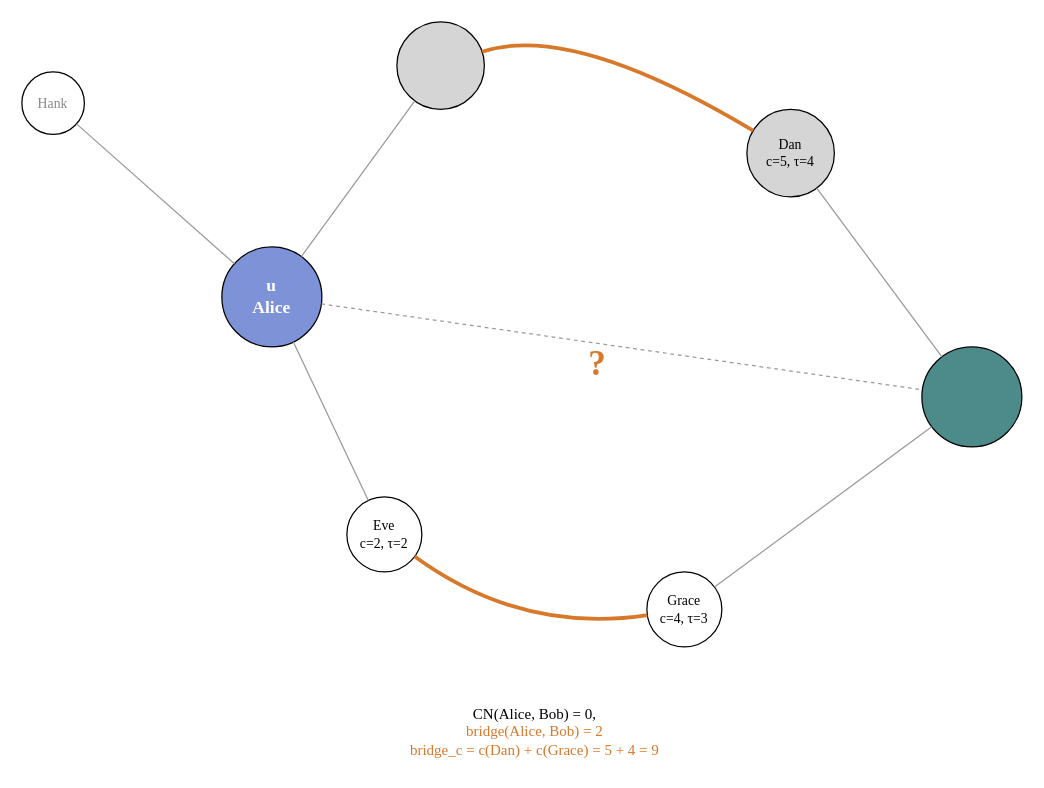
This 1044x788 diagram has some shape labels left out. The centre of each missing label's shape, as x and y in pixels:
Carol c=5, τ=4: (440,65)
v Bob: (971,396)
